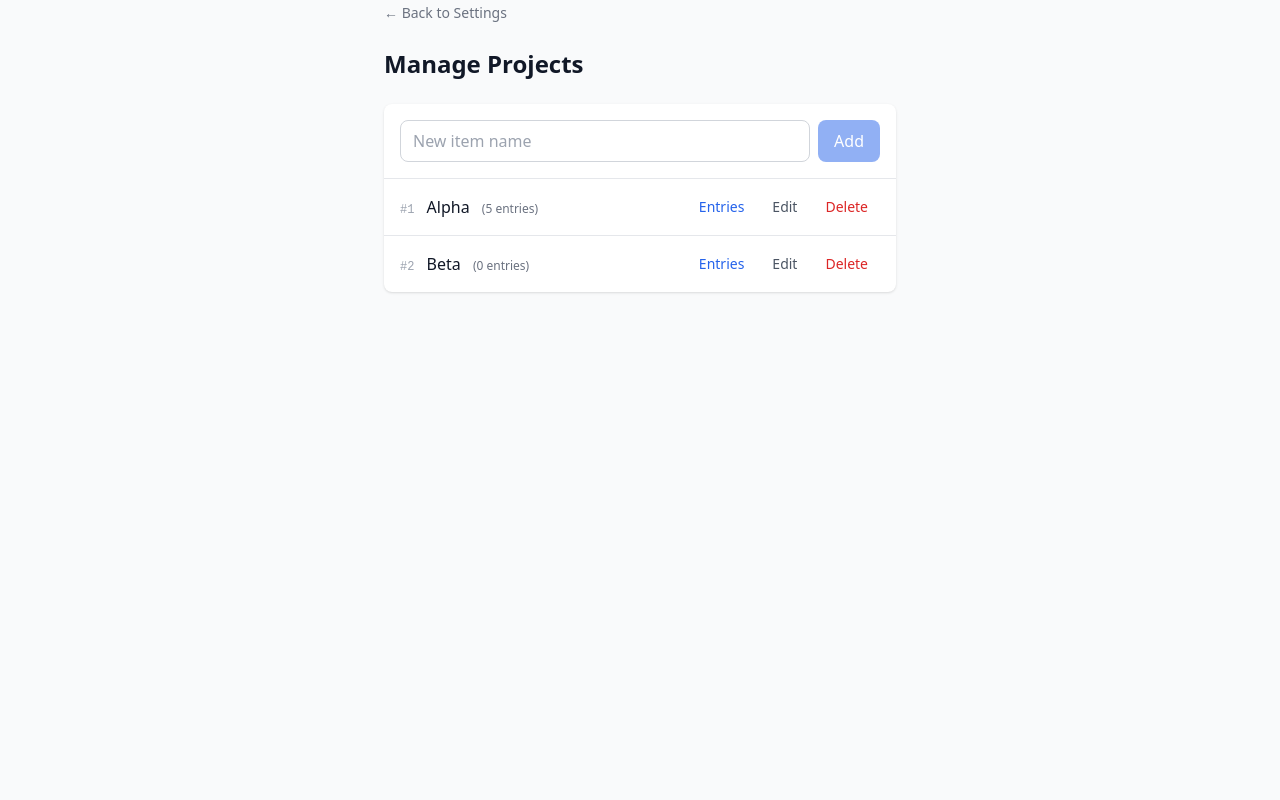
SettingsResourceManager › shows delete confirmation when delete button is clicked
This screenshot has width=1280, height=800.
Expected: the text "Alpha" is shown, [427, 196, 470, 218]
Click the button "Delete" in the row of "#1" at (847,207), box [813, 191, 880, 223]
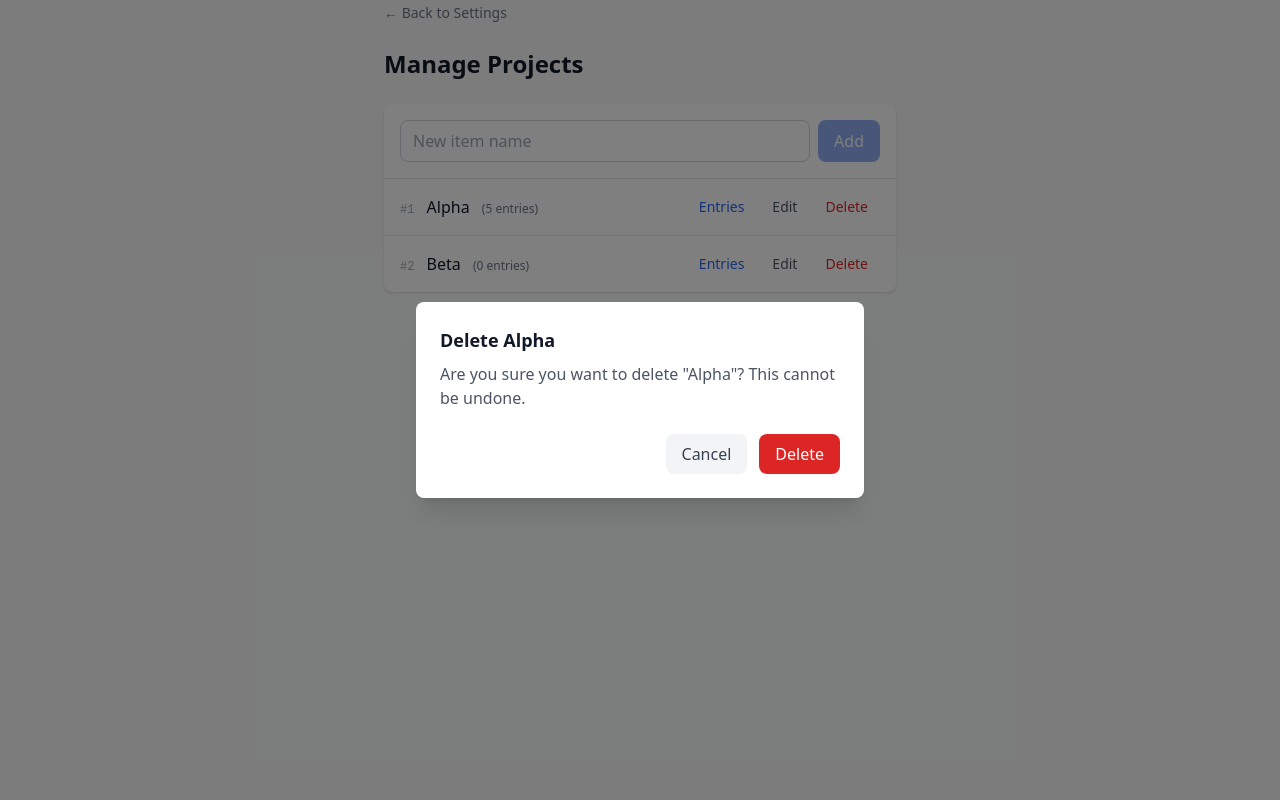
Now the text "Are you sure you want to delete" is shown, box [440, 363, 835, 409]
